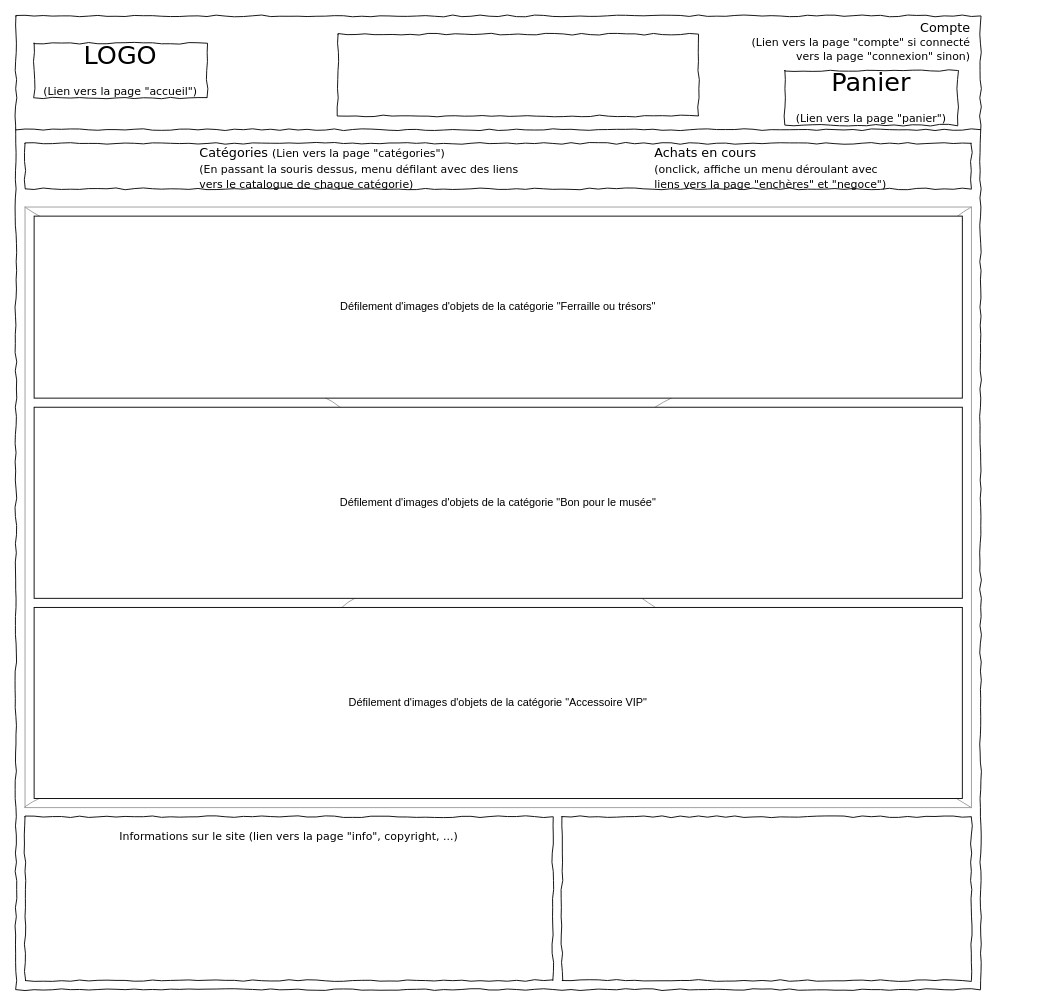
This 1042x1006 diagram has some shape labels left out. Each missing label, with the box of its shape:
Bienvenue ...: (337, 33, 698, 116)
Nous contacter: (561, 816, 971, 981)
